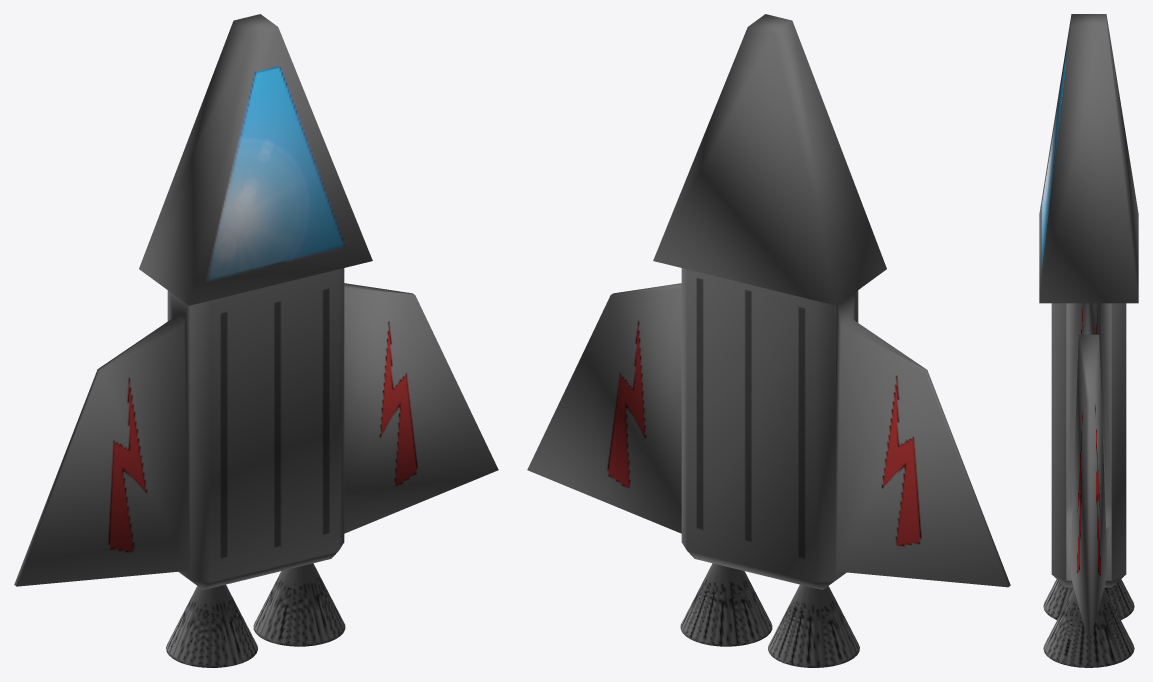
File: starship.gltf
3 views of the same model, side by side, from view 1: azimuth 30°, elevation 25°; view 2: azimuth 150°, elevation 25°; view 3: azimuth 270°, elevation 25° (orthographic).
Visible parts, largest first — view 1: Cube; view 2: Cube; view 3: Cube.
Part boxes in pixels (x1,y1,x2,y2): Cube: (14,14,498,667); Cube: (527,14,1010,667); Cube: (1039,14,1138,667).
Bounding box in the file's own units: 0.8099 × 0.9868 × 0.1465.
Materials: 1 (1 with a texture image).
